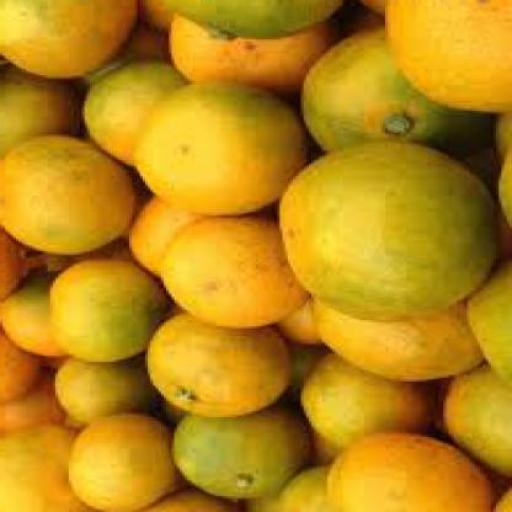biodegradable: (283, 145, 499, 324), (304, 26, 496, 164), (140, 83, 312, 221), (166, 220, 314, 334), (2, 139, 140, 259), (314, 299, 488, 385), (150, 315, 293, 419), (174, 14, 340, 103), (388, 2, 510, 120), (177, 404, 317, 500), (45, 261, 172, 365), (308, 358, 444, 451), (335, 435, 496, 511), (84, 61, 188, 170), (2, 2, 143, 80), (72, 417, 178, 511), (2, 61, 90, 154), (446, 366, 510, 488), (1, 428, 91, 511), (153, 2, 343, 40), (58, 363, 166, 427), (466, 260, 511, 392), (2, 275, 66, 358), (132, 198, 196, 281), (2, 374, 66, 438), (126, 2, 174, 66), (2, 336, 42, 407), (280, 466, 338, 511), (280, 306, 327, 350), (3, 223, 27, 306), (148, 492, 241, 511), (287, 346, 322, 395), (496, 110, 511, 168), (245, 494, 287, 510), (356, 2, 391, 18), (506, 140, 511, 229), (494, 490, 510, 511)
